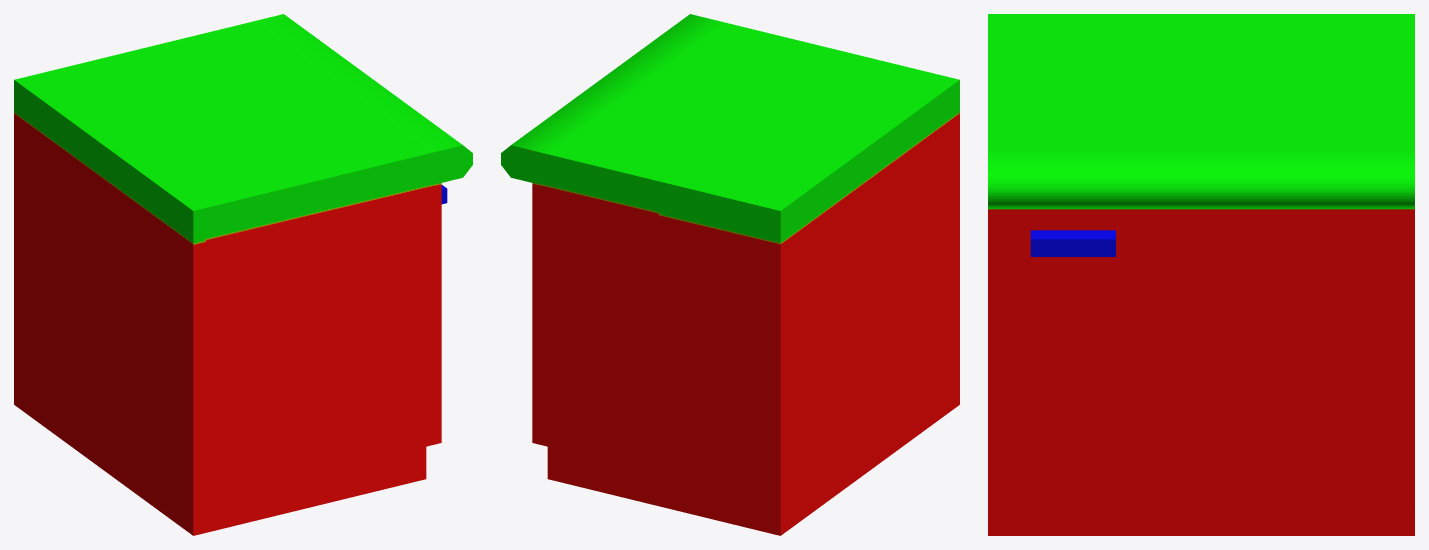
Rendered from STFcoking_closet_2.glb.
The picture shows the model from 3 angles, left to right: view 1: azimuth 30°, elevation 25°; view 2: azimuth 150°, elevation 25°; view 3: azimuth 270°, elevation 25°; orthographic projection. The views are drawn at different scales.
Visible parts, largest first — view 1: STFcoking_closet_2; view 2: STFcoking_closet_2; view 3: STFcoking_closet_2.
Part boxes in pixels (x1,y1,x2,y2): STFcoking_closet_2: (14, 14, 472, 535); STFcoking_closet_2: (501, 14, 959, 535); STFcoking_closet_2: (988, 14, 1414, 535).
Size of the model in its own units: 0.9 by 1 by 1.
Materials: 1 (1 with a texture image).
